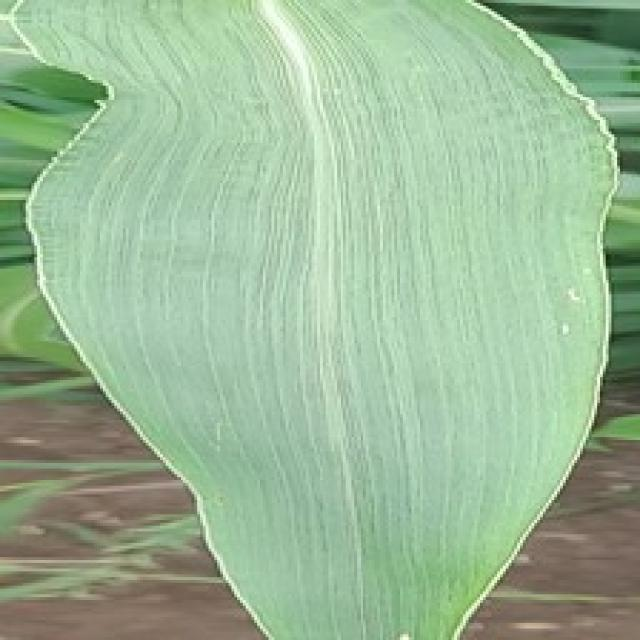Corn: (0, 0, 623, 637), (0, 0, 109, 380)
